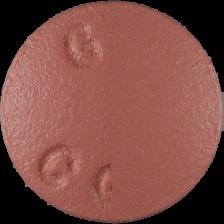0173-0676: (0, 0, 224, 224)
